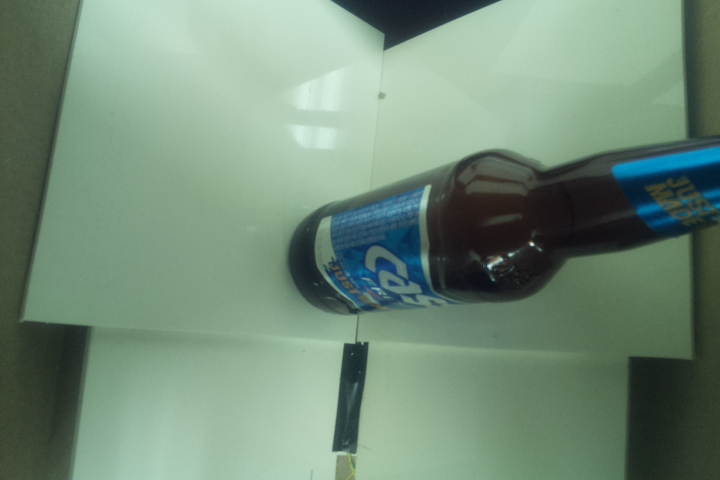makju: (286, 132, 720, 317)
